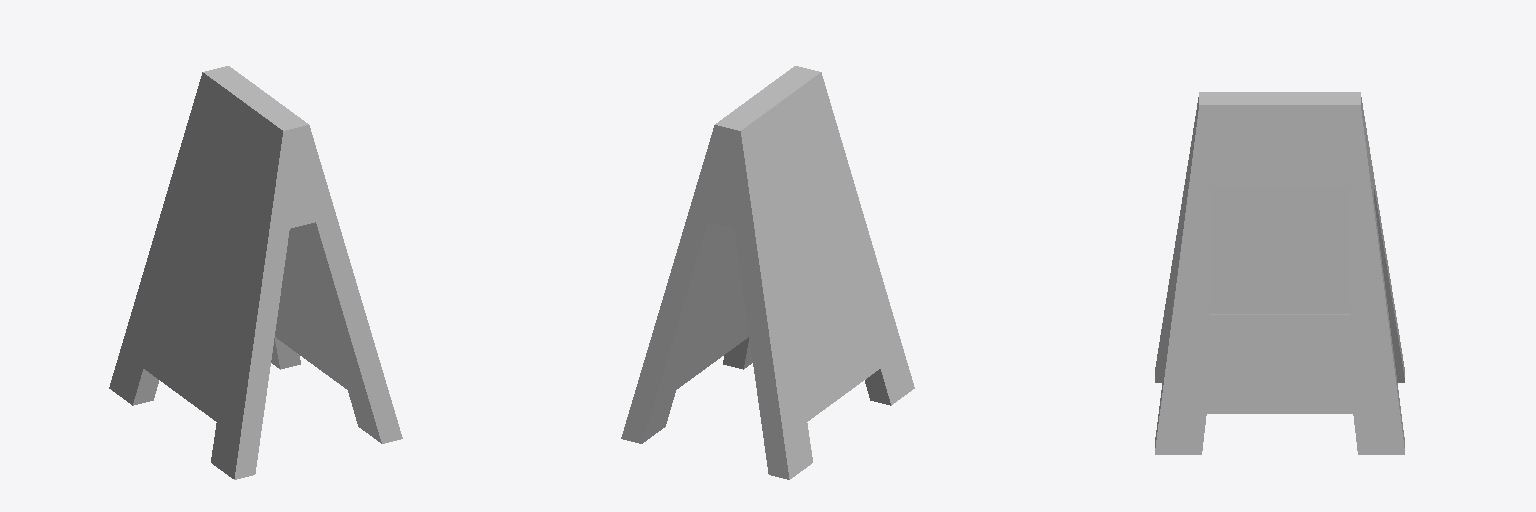
File: assorted_props-01-caution_floor.obj
3 renders of one model, left to right at view 1: azimuth 30°, elevation 25°; view 2: azimuth 150°, elevation 25°; view 3: azimuth 270°, elevation 25°, orthographic.
Visible parts, largest first — view 1: Cube_Cube.002; view 2: Cube_Cube.002; view 3: Cube_Cube.002, Cube.002_Cube.007.
Part boxes in pixels (x1,y1,x2,y2): Cube_Cube.002: (109,66,402,479); Cube_Cube.002: (621,66,914,479); Cube_Cube.002: (1155,92,1404,454); Cube.002_Cube.007: (1210,186,1349,310).
Bounding box in the file's own units: 0.6715 × 1.2 × 0.8651.